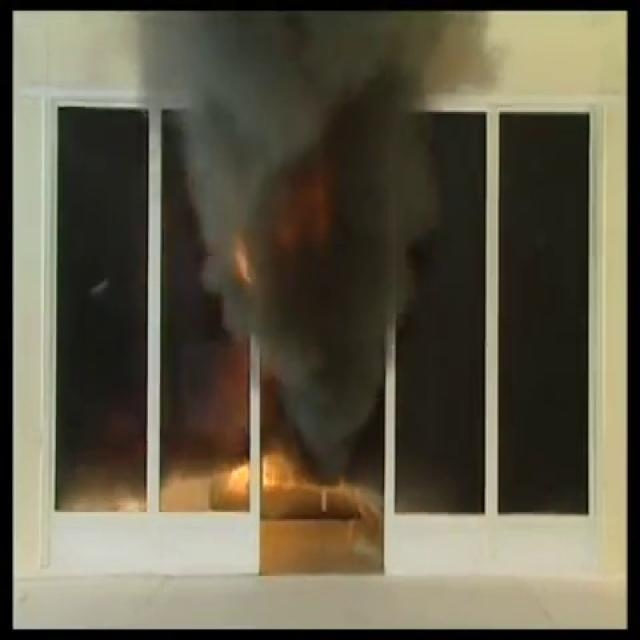Fire: (222, 178, 373, 282), (232, 456, 288, 504)
Smoke: (153, 0, 426, 140), (234, 302, 388, 439)
